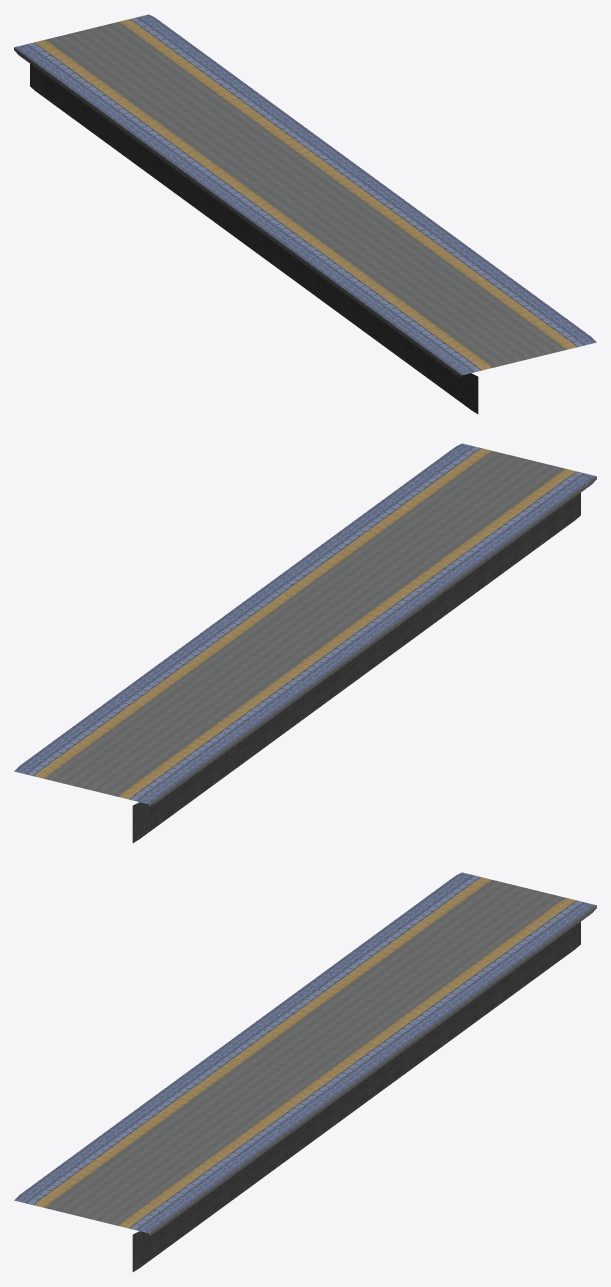
Rendered from AMB_HOME2_CENTER.glb.
3 renders of one model, top to bottom at view 1: azimuth 30°, elevation 25°; view 2: azimuth 150°, elevation 25°; view 3: azimuth 330°, elevation 25°, orthographic.
Parts seen in each view (by area): view 1: Mesh1; view 2: Mesh1; view 3: Mesh1.
Boxes of the visible parts, x1,y1,x2,y2 form: Mesh1: (14,14,596,413); Mesh1: (14,443,596,842); Mesh1: (14,872,596,1271).
Bounding box in the file's own units: 18.05 × 5.55 × 103.
Materials: 4 (4 with a texture image).
